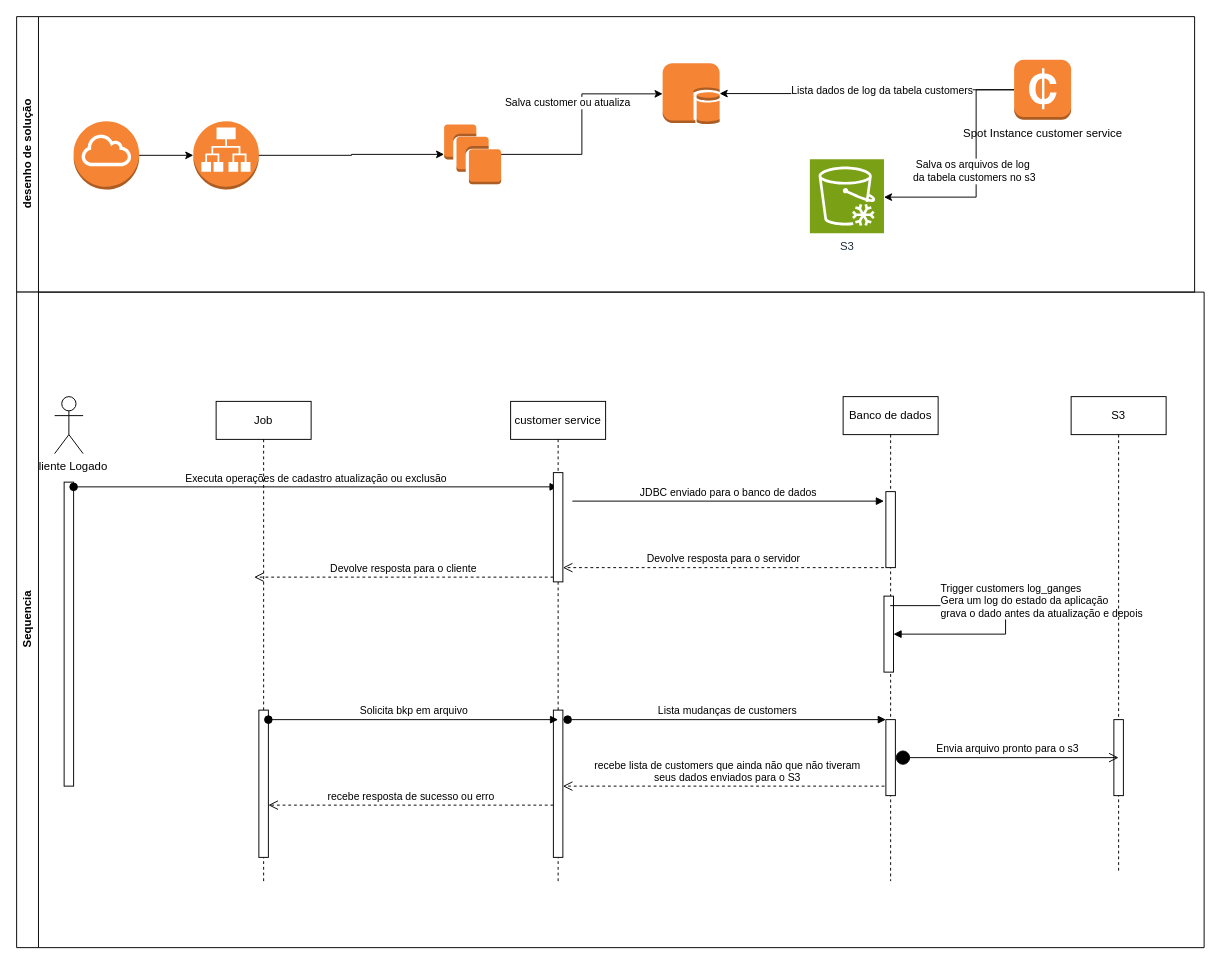
Some shapes in this 1221 by 964 pixel diagram are drawn without their labels. Here are the shapes that lost their labels. From the top down, the centre of each, then its label:
[691,93]: DB
[106,155]: Internet Gatway
[225,155]: Application Load Balance
[472,154]: Instancias customer service
